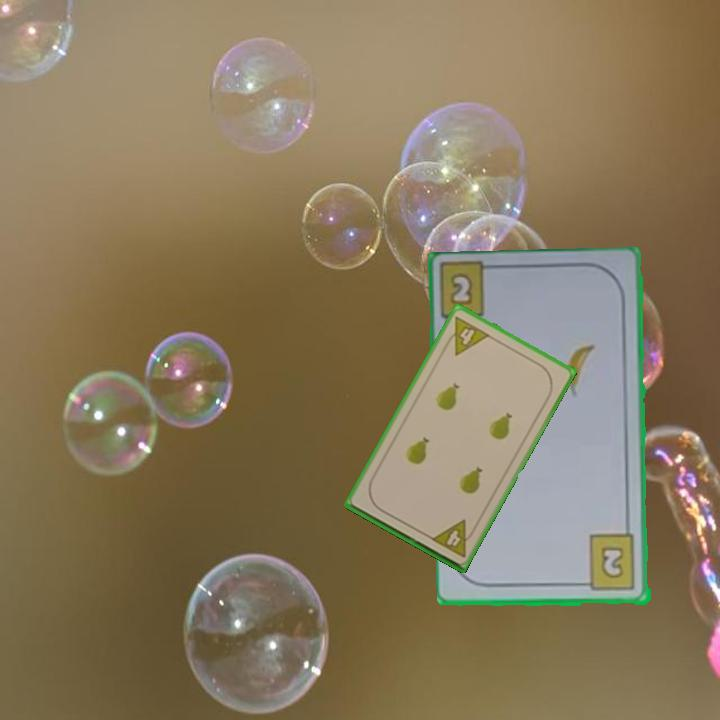2b: (577, 532, 638, 594), (446, 269, 476, 308)
4p: (440, 313, 493, 358), (427, 516, 479, 560)
